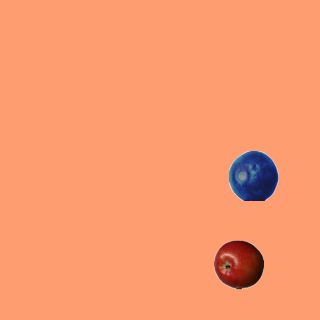Apple Braeburn: (213, 239, 263, 289)
Huckleberry: (228, 150, 278, 200)
